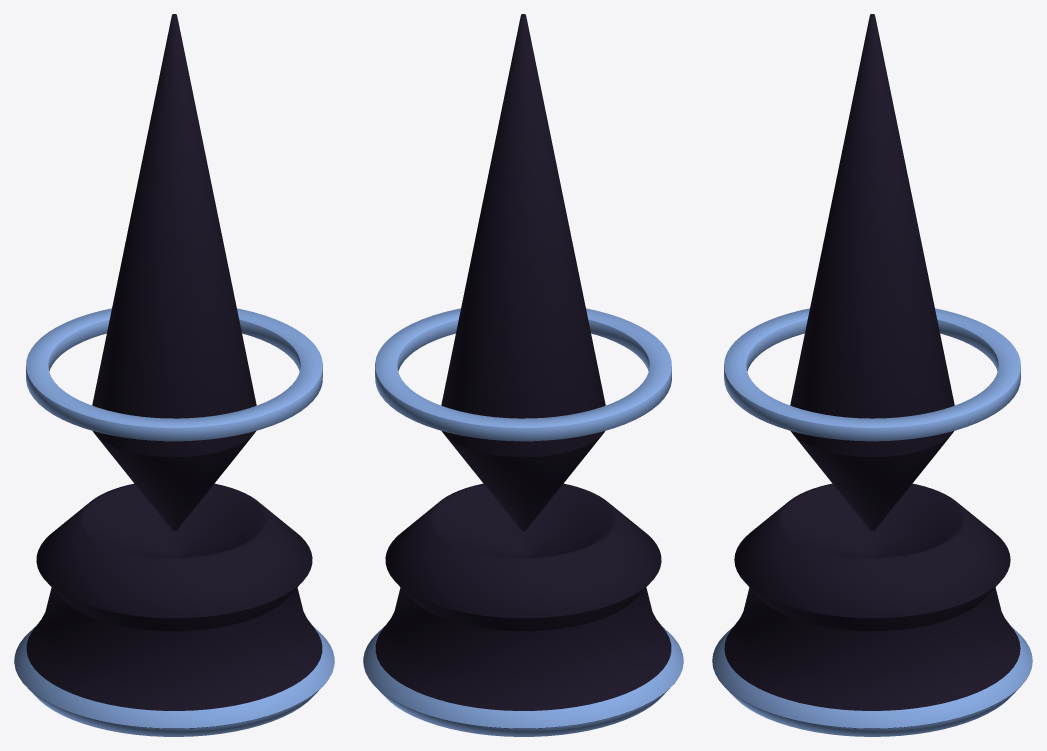
Rendered from Lancer.fbx.
3 renders of one model, left to right at view 1: azimuth 30°, elevation 25°; view 2: azimuth 150°, elevation 25°; view 3: azimuth 270°, elevation 25°, orthographic.
Parts seen in each view (by area): view 1: LancerBase, LancerCore, LancerRing; view 2: LancerBase, LancerCore, LancerRing; view 3: LancerBase, LancerCore, LancerRing.
Part boxes in pixels (x1=…): LancerBase: x1=14, y1=483, x2=334, y2=736; LancerCore: x1=92, y1=14, x2=256, y2=530; LancerRing: x1=26, y1=308, x2=322, y2=441; LancerBase: x1=363, y1=483, x2=683, y2=736; LancerCore: x1=441, y1=14, x2=605, y2=530; LancerRing: x1=375, y1=308, x2=671, y2=441; LancerBase: x1=712, y1=483, x2=1032, y2=736; LancerCore: x1=790, y1=14, x2=954, y2=530; LancerRing: x1=724, y1=308, x2=1020, y2=441.
Bounding box in the file's own units: 216 × 491 × 216.
